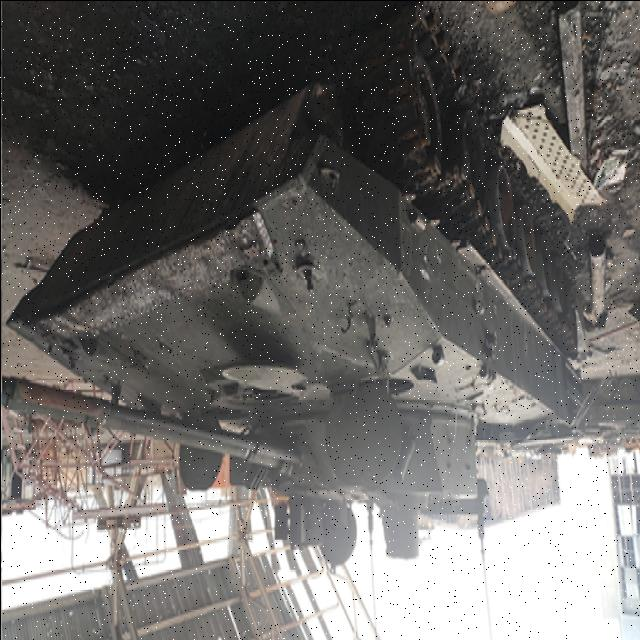APC-IFV: (14, 42, 585, 540)
